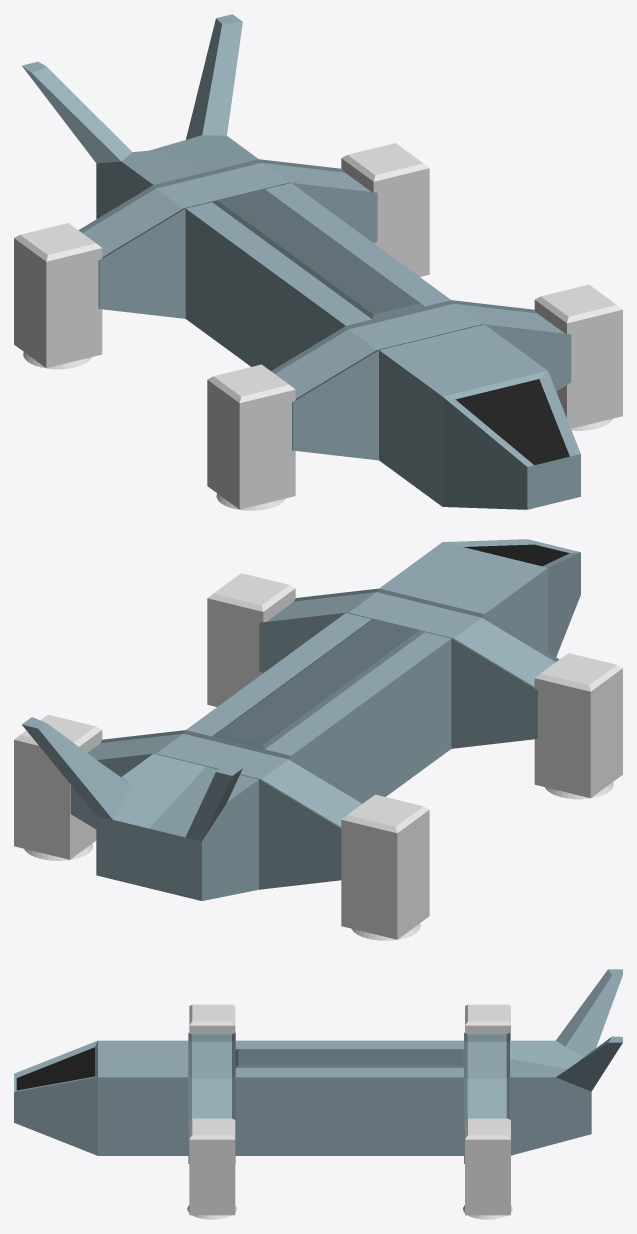
The model's file is endeavour.glb.
3 renders of one model, top to bottom at view 1: azimuth 30°, elevation 25°; view 2: azimuth 150°, elevation 25°; view 3: azimuth 270°, elevation 25°, orthographic. The views are drawn at different scales.
Visible parts, largest first — view 1: hull, hoverThruster1.001, hoverThruster1.002, hoverThruster1.004, hoverThruster1.003; view 2: hull, hoverThruster1.002, hoverThruster1.001, hoverThruster1.003, hoverThruster1.004; view 3: hull, hoverThruster1.004, hoverThruster1.003, hoverThruster1.001, hoverThruster1.002.
Boxes of the visible parts, x1=… form: hull: x1=22, y1=14, x2=580, y2=509; hoverThruster1.001: x1=207, y1=364, x2=295, y2=510; hoverThruster1.002: x1=14, y1=223, x2=102, y2=369; hoverThruster1.004: x1=534, y1=284, x2=622, y2=430; hoverThruster1.003: x1=341, y1=143, x2=429, y2=276; hull: x1=22, y1=539, x2=580, y2=900; hoverThruster1.002: x1=341, y1=794, x2=429, y2=940; hoverThruster1.001: x1=534, y1=653, x2=622, y2=799; hoverThruster1.003: x1=14, y1=714, x2=102, y2=860; hoverThruster1.004: x1=207, y1=573, x2=295, y2=706; hull: x1=14, y1=969, x2=622, y2=1163; hoverThruster1.004: x1=187, y1=1118, x2=236, y2=1219; hoverThruster1.003: x1=463, y1=1118, x2=512, y2=1219; hoverThruster1.001: x1=189, y1=1004, x2=235, y2=1033; hoverThruster1.002: x1=465, y1=1004, x2=510, y2=1040.
Size of the model in its own units: 14.71 by 7.44 by 28.06.
1 material, 1 textured.
